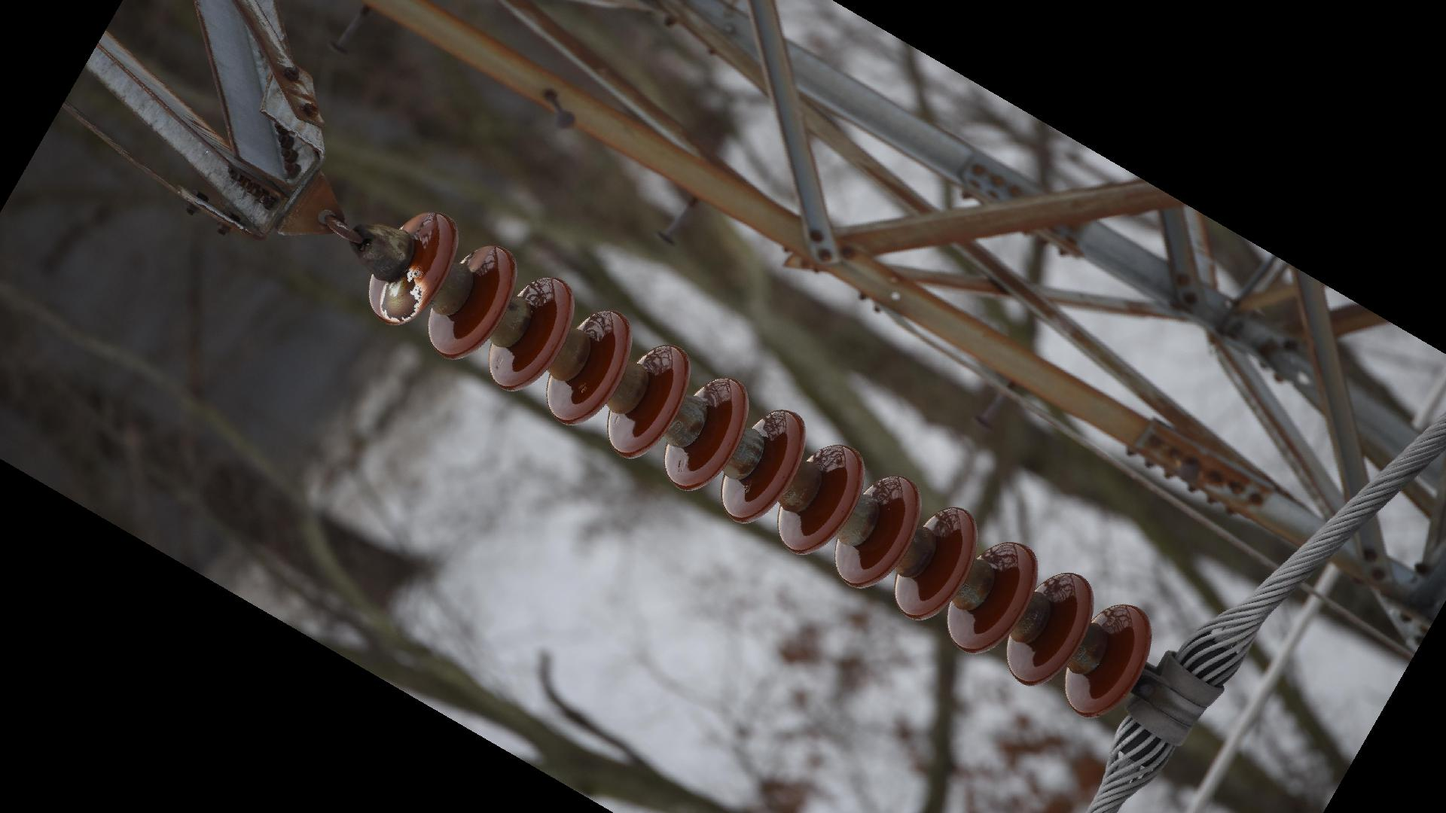insulator: (357, 206, 1155, 720)
insulator_flashover: (378, 269, 426, 325)
